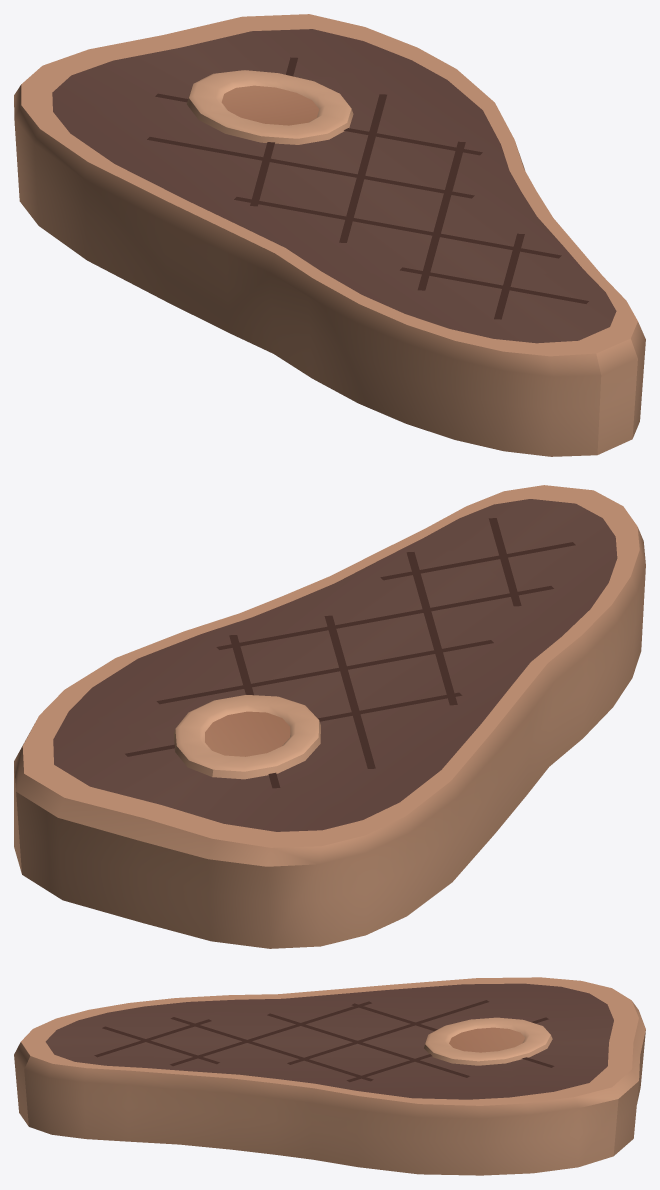
File: Product Steak.fbx
The picture shows the model from 3 angles, top to bottom: view 1: azimuth 30°, elevation 25°; view 2: azimuth 150°, elevation 25°; view 3: azimuth 270°, elevation 25°; orthographic projection. The views are drawn at different scales.
Visible parts, largest first — view 1: Product_Steak; view 2: Product_Steak; view 3: Product_Steak.
Boxes of the visible parts, x1=… form: Product_Steak: x1=14, y1=14, x2=645, y2=456; Product_Steak: x1=14, y1=485, x2=645, y2=948; Product_Steak: x1=14, y1=977, x2=645, y2=1175.
Size of the model in its own units: 64.21 by 17.48 by 130.
